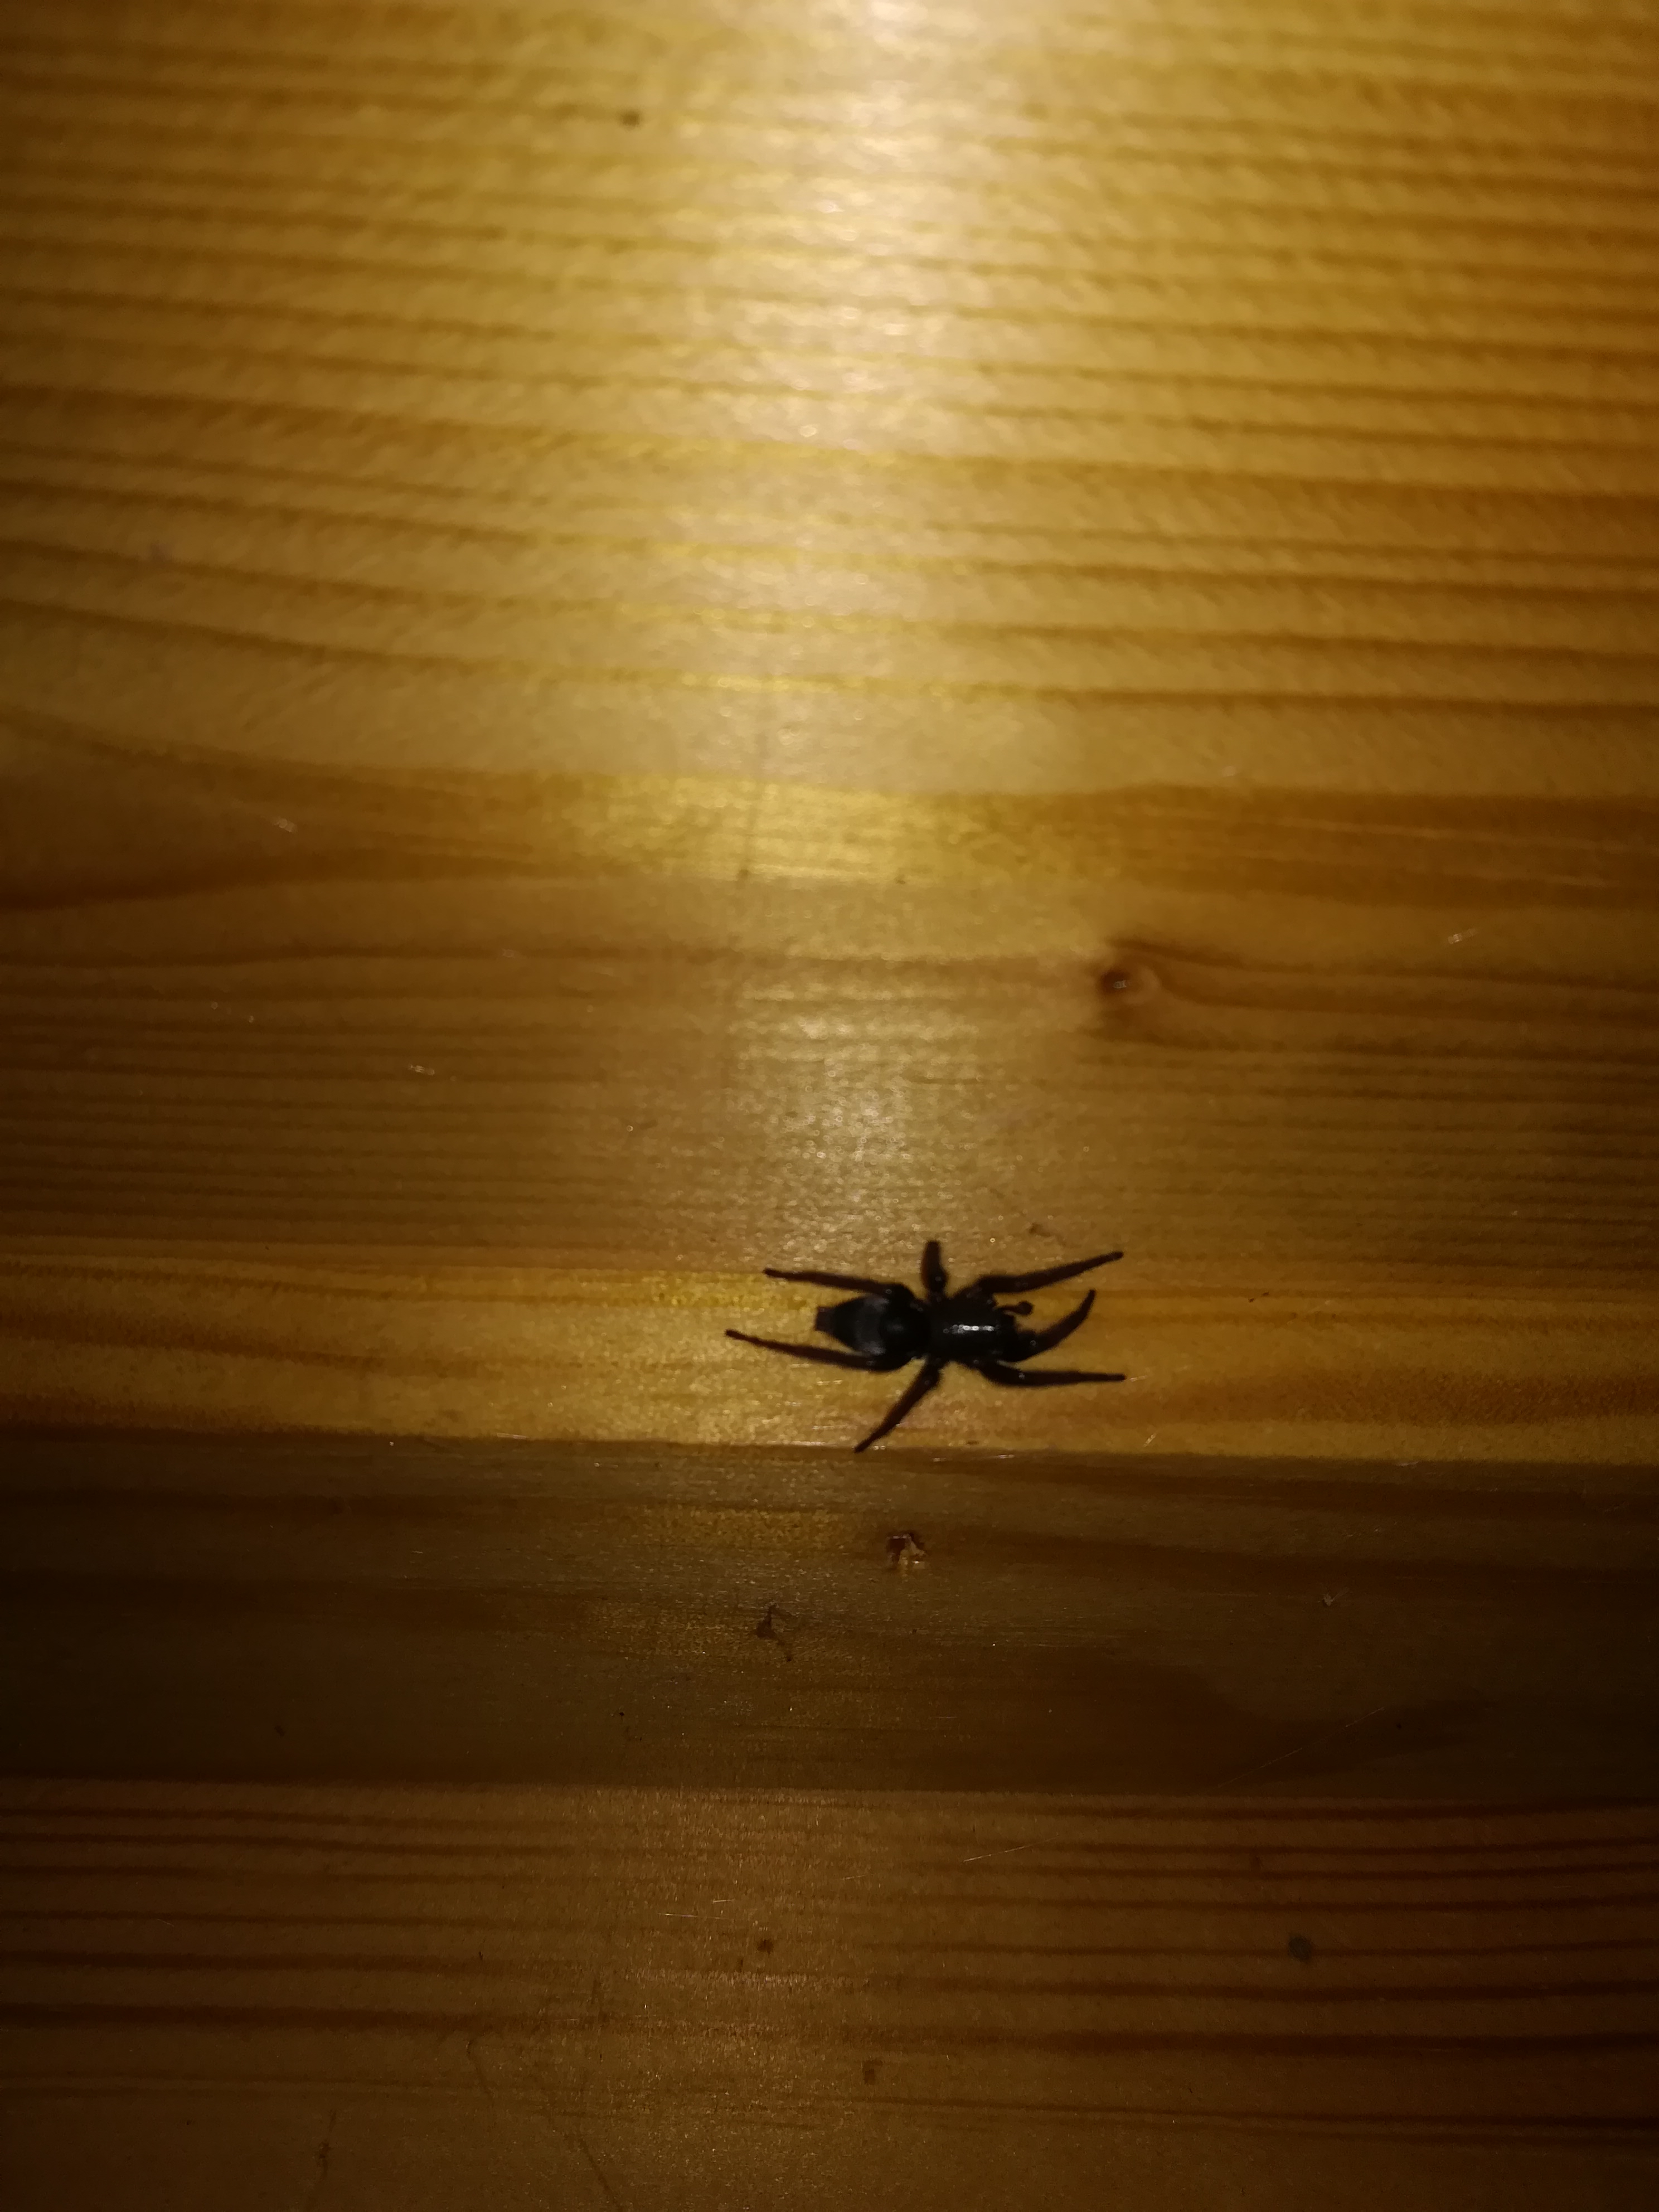spider: (720, 1181, 1166, 1477)
